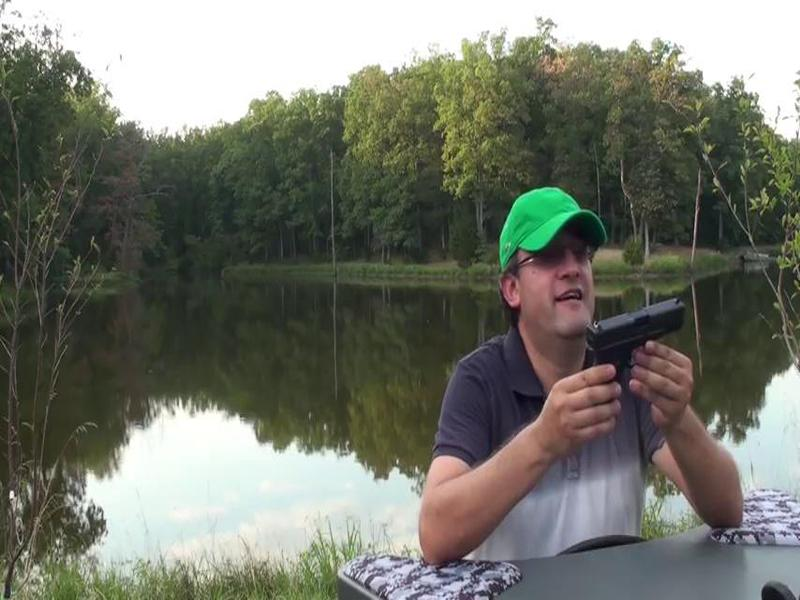Pistola: (576, 285, 686, 413)
